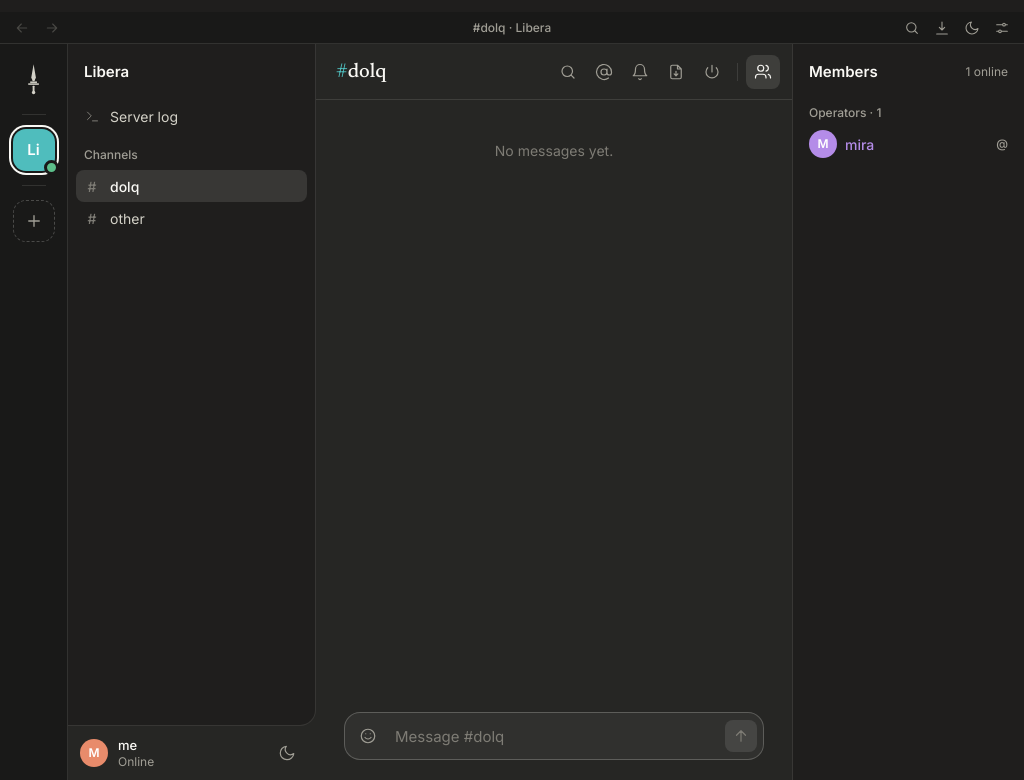
Test: App: layout › switches channels from the sidebar
The width and height of the screenshot is (1024, 780).
Step 1. Click the text "other" → (127, 218), box [110, 210, 145, 226]
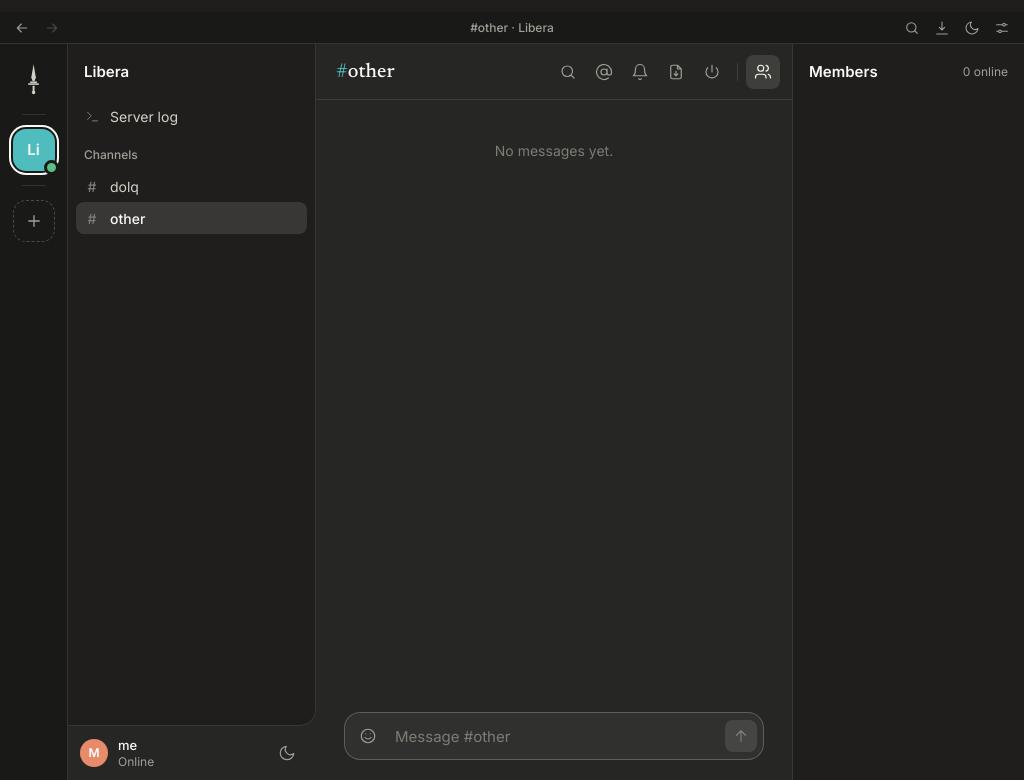
Expected: the heading "#other" is shown, [336, 56, 395, 86]
